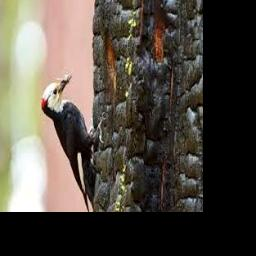Woodpecker: (43, 71, 106, 212)
